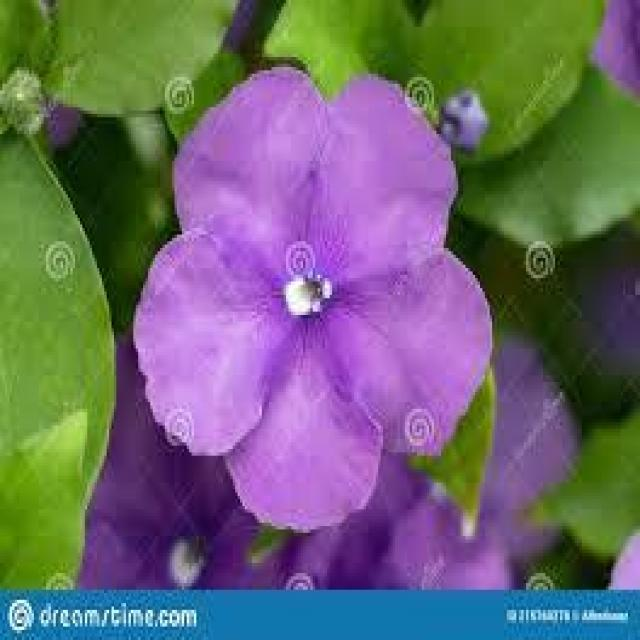organic waste: (136, 67, 494, 526)
